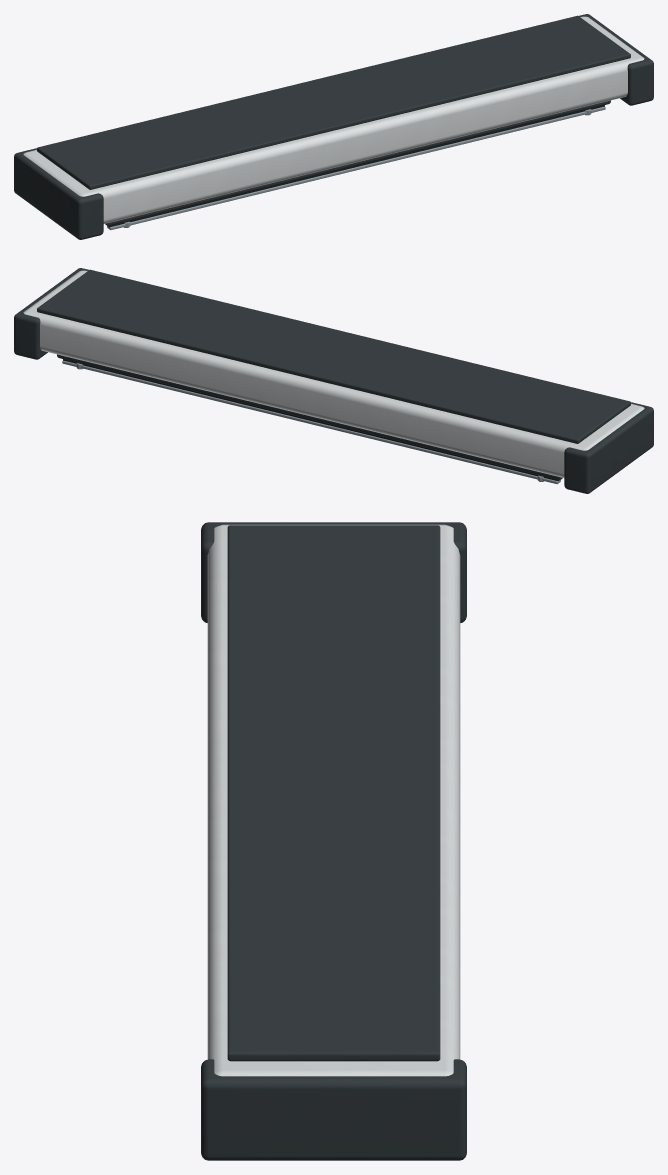
Rendered from 18_ceiling_light_fixture.gltf.
The picture shows the model from 3 angles, top to bottom: view 1: azimuth 30°, elevation 25°; view 2: azimuth 150°, elevation 25°; view 3: azimuth 270°, elevation 25°; orthographic projection. The views are drawn at different scales.
Visible parts, largest first — view 1: 18_Cryo_Anodized_Frame, 18_Cryo_Ceramic_Enamel, 18_Cryo_Brushed_Steel, 18_Cryo_EPDM_Gasket; view 2: 18_Cryo_Anodized_Frame, 18_Cryo_Ceramic_Enamel, 18_Cryo_Brushed_Steel, 18_Cryo_EPDM_Gasket; view 3: 18_Cryo_Anodized_Frame, 18_Cryo_Ceramic_Enamel.
Part boxes in pixels (x1=…): 18_Cryo_Anodized_Frame: x1=14, y1=14, x2=653, y2=239; 18_Cryo_Ceramic_Enamel: x1=23, y1=16, x2=644, y2=223; 18_Cryo_Brushed_Steel: x1=107, y1=106, x2=605, y2=230; 18_Cryo_EPDM_Gasket: x1=108, y1=105, x2=604, y2=227; 18_Cryo_Anodized_Frame: x1=14, y1=268, x2=653, y2=493; 18_Cryo_Ceramic_Enamel: x1=23, y1=270, x2=644, y2=477; 18_Cryo_Brushed_Steel: x1=62, y1=360, x2=560, y2=484; 18_Cryo_EPDM_Gasket: x1=63, y1=359, x2=559, y2=481; 18_Cryo_Anodized_Frame: x1=201, y1=522, x2=466, y2=1160; 18_Cryo_Ceramic_Enamel: x1=207, y1=524, x2=460, y2=1076.
Bounding box in the file's own units: 2 × 0.18 × 0.4.
7 materials, 4 textured.
